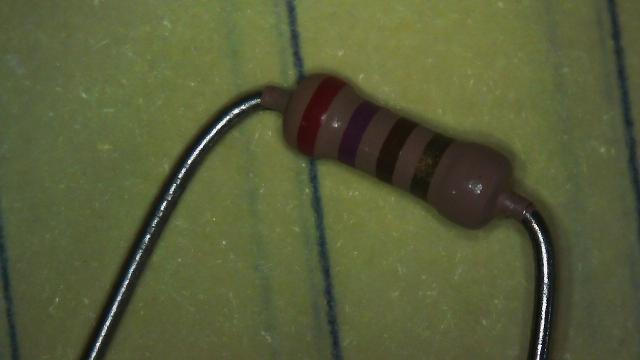brown: (375, 118, 416, 183)
gold: (411, 134, 452, 200)
red: (296, 78, 345, 156)
resistor: (254, 42, 535, 257)
violet: (338, 100, 379, 166)
